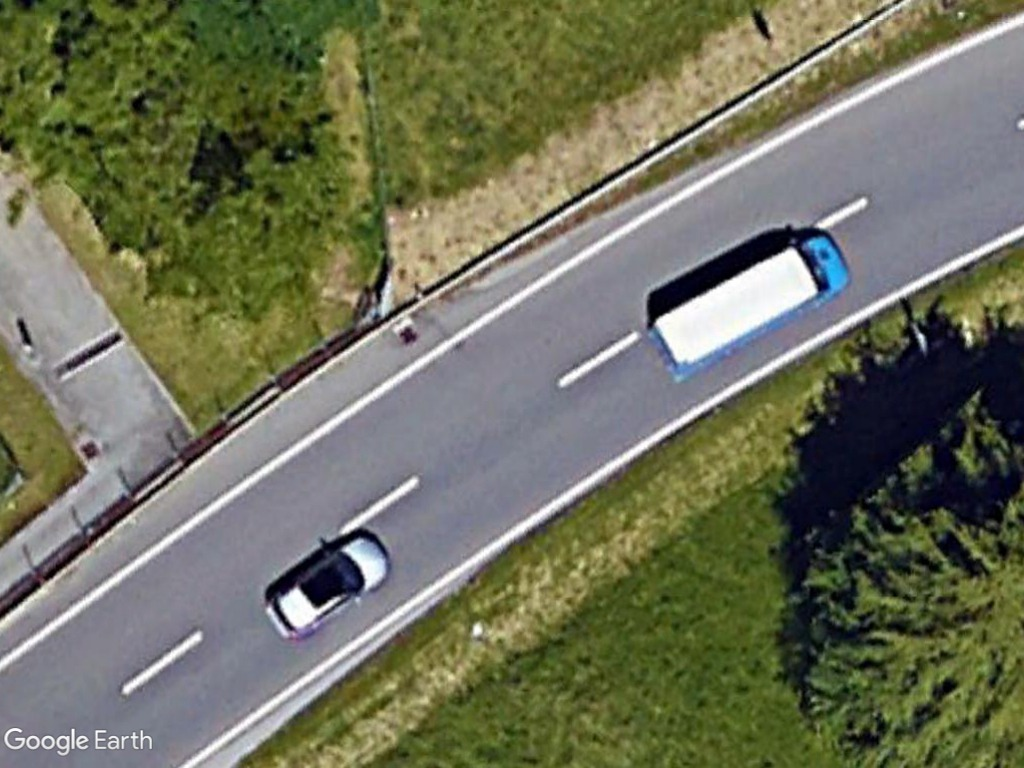car: (260, 527, 399, 646)
van: (645, 228, 856, 387)
